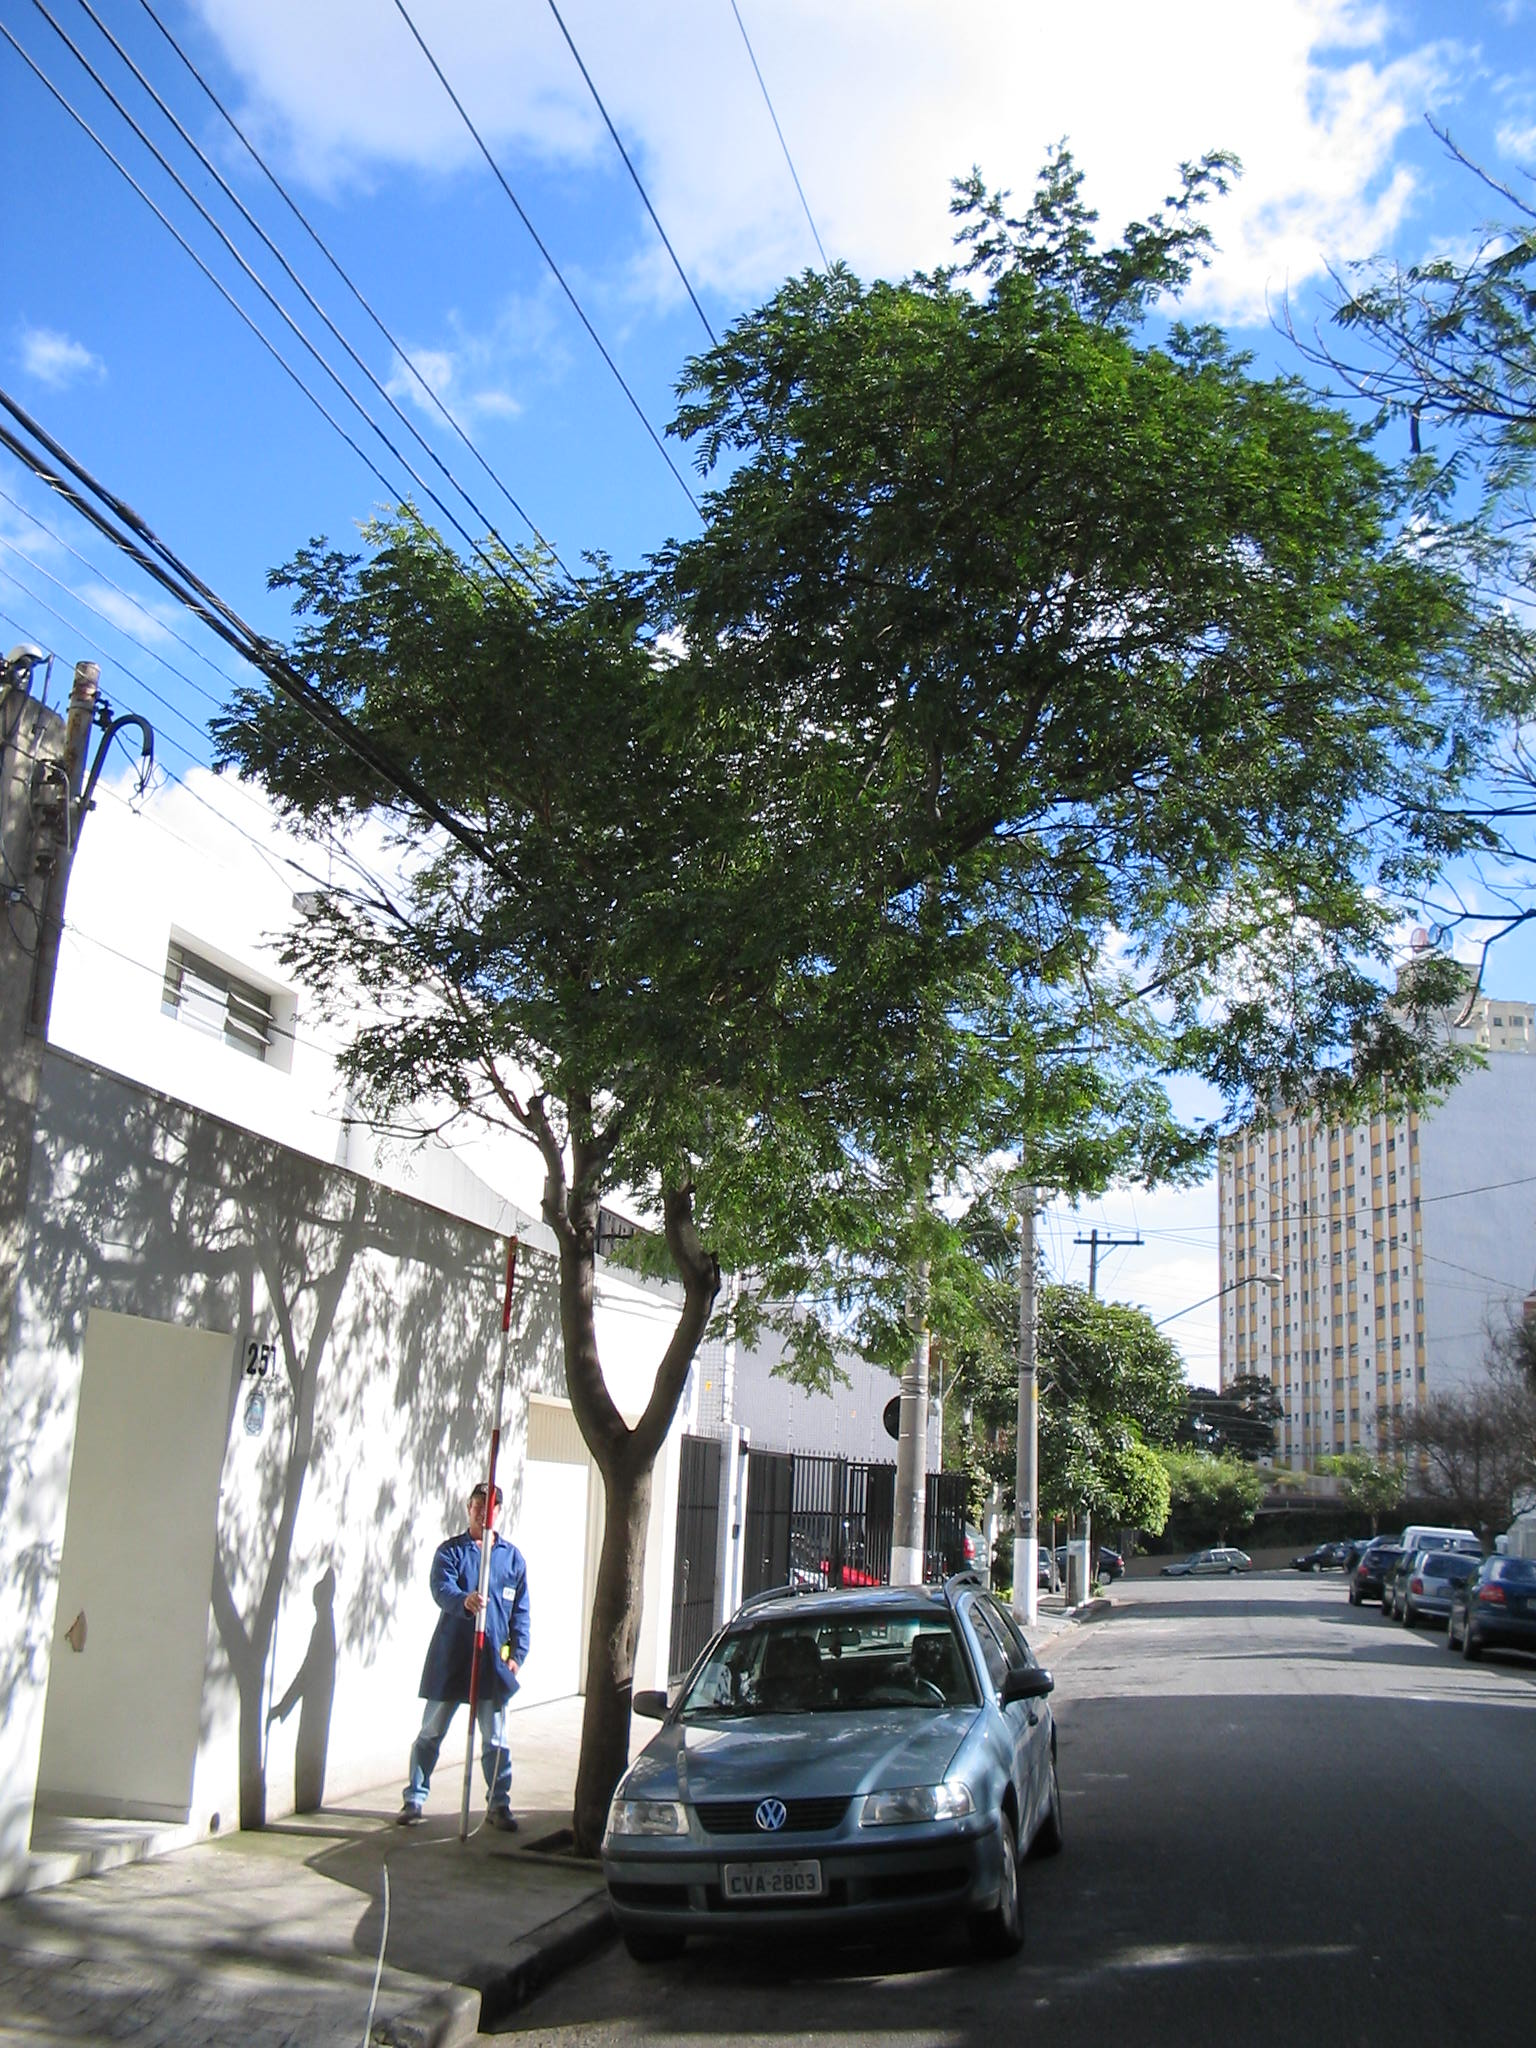crown: (215, 140, 1499, 1417)
stem: (536, 1440, 658, 1850)
stick: (436, 1240, 545, 1842)
tree: (215, 140, 1501, 1853)
